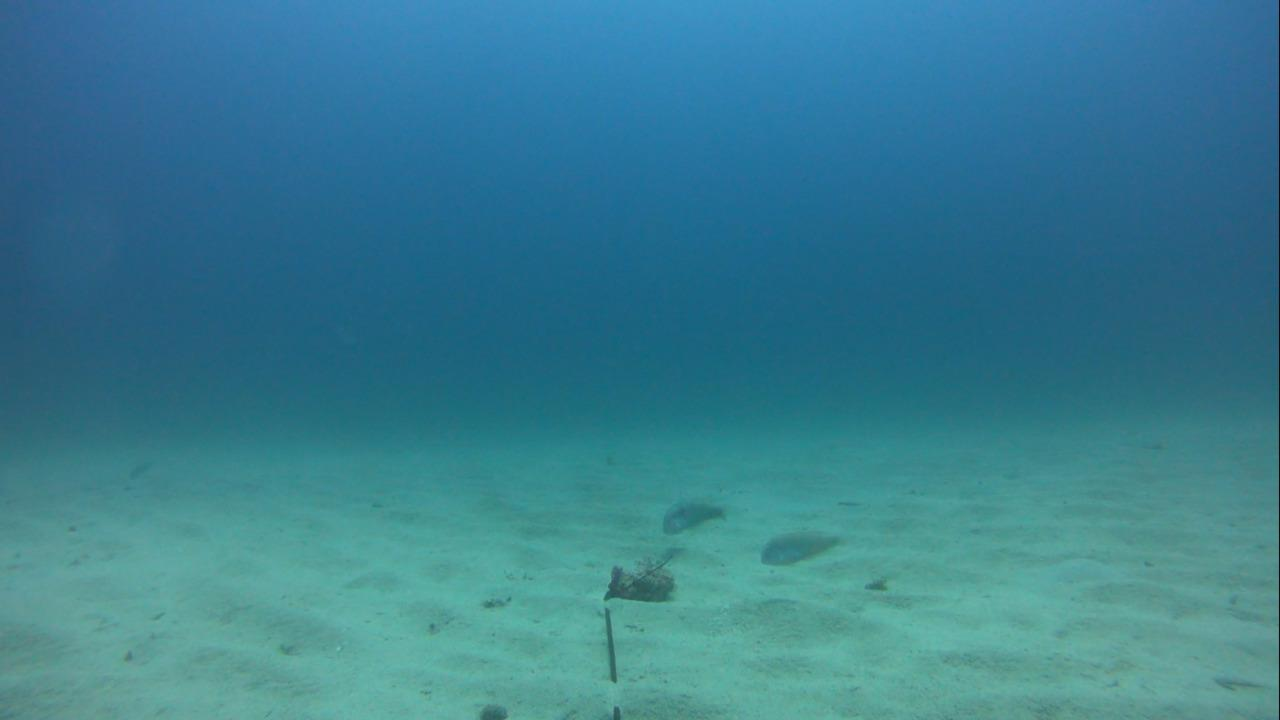raor: (755, 528, 854, 571), (659, 497, 734, 536)
